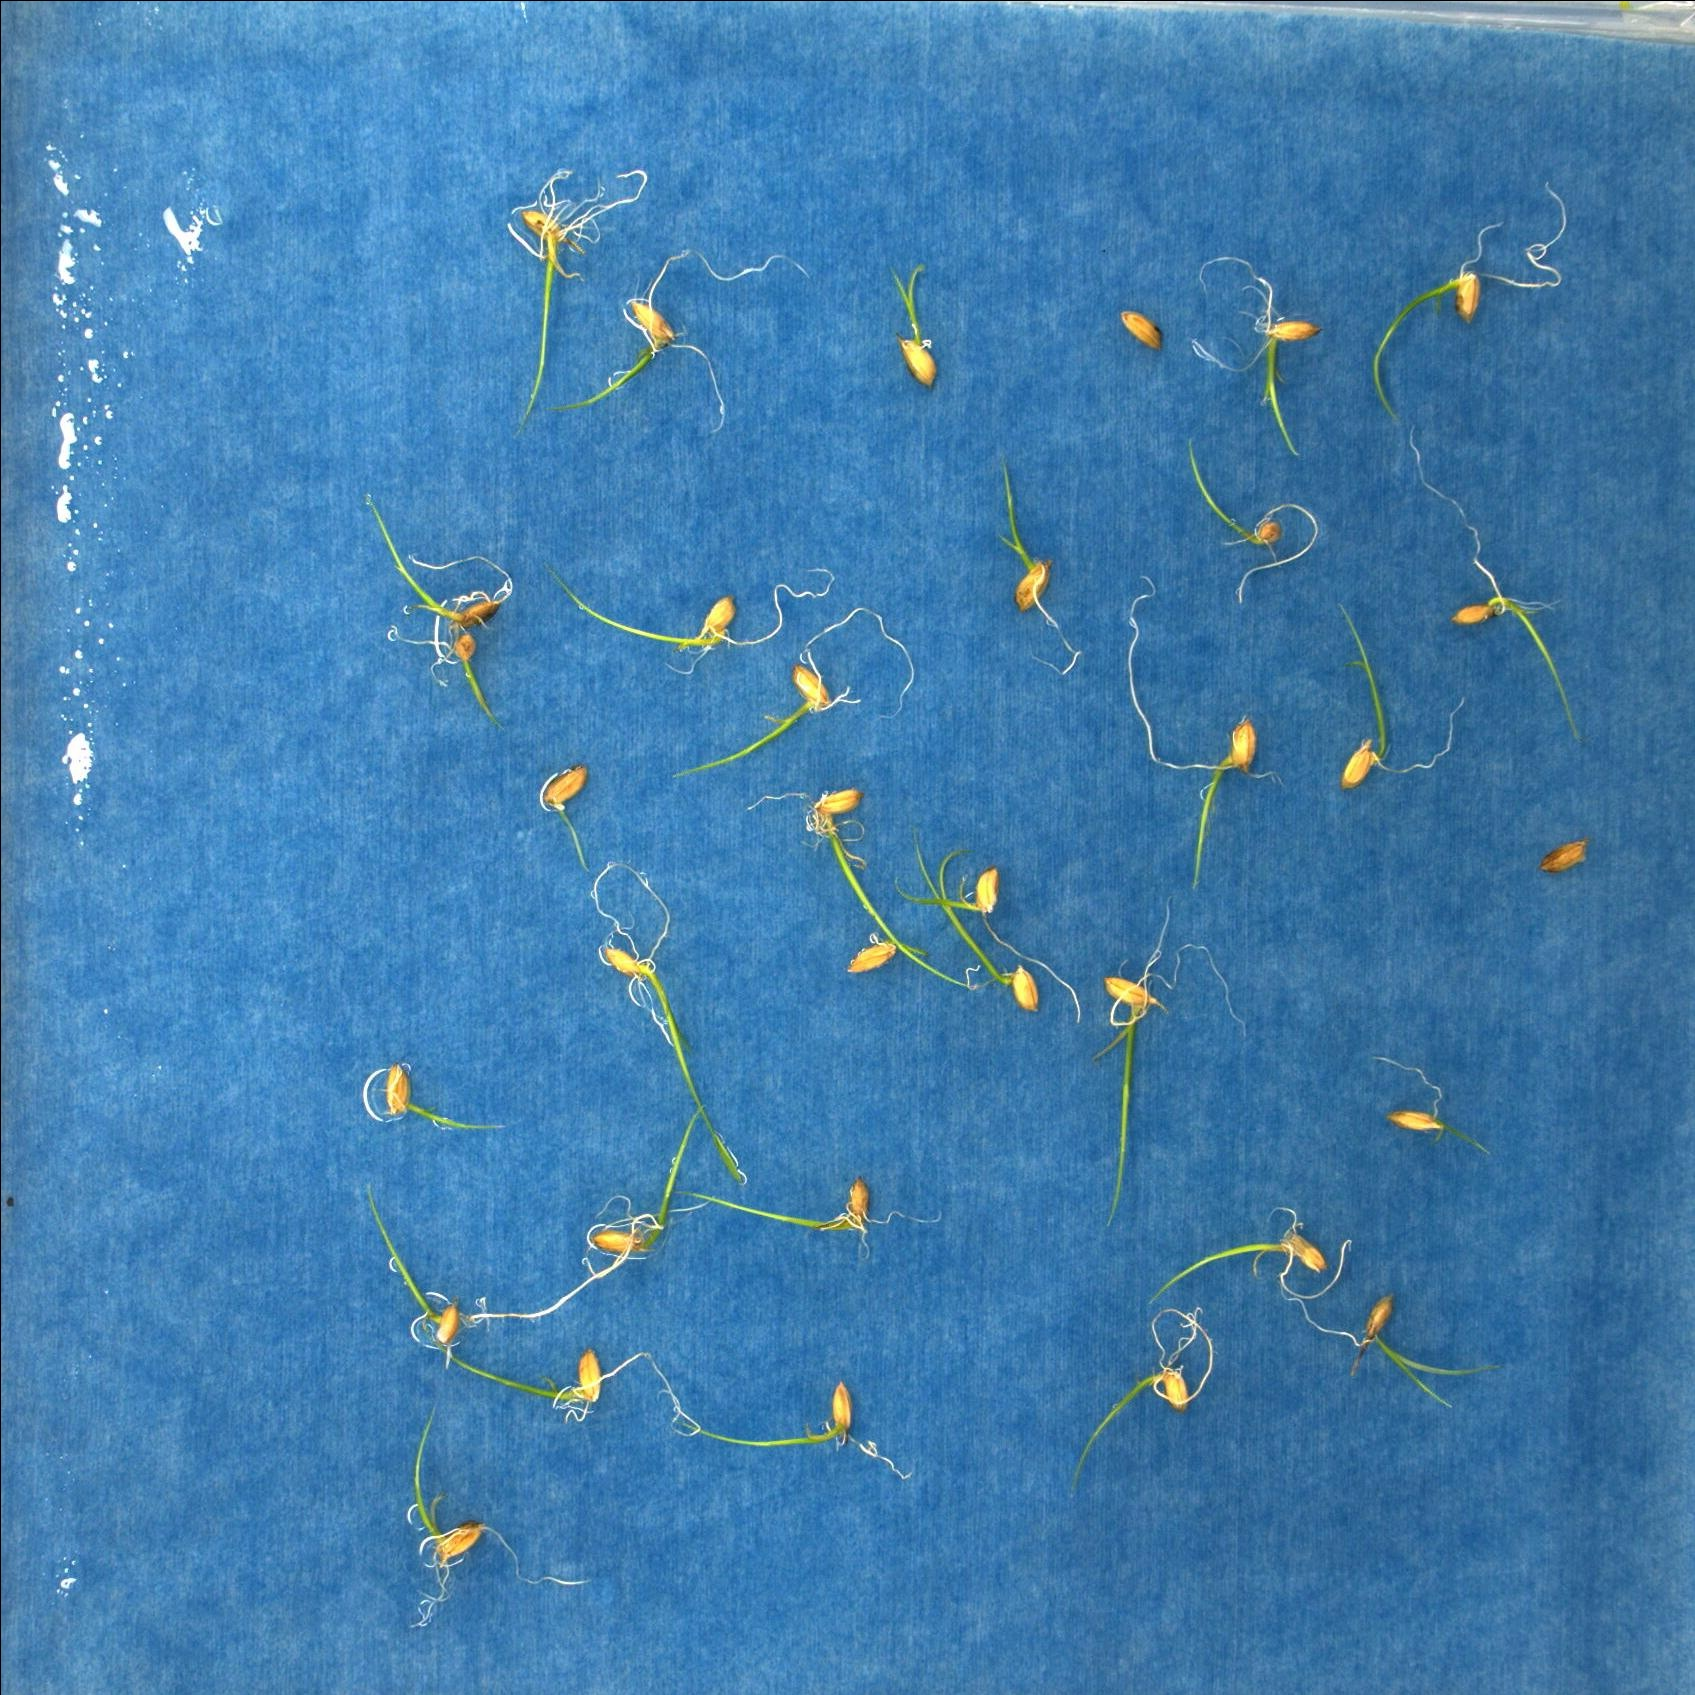not sprout: (536, 757, 587, 843), (1544, 823, 1600, 879), (1118, 307, 1166, 354)
sprout: (1111, 567, 1284, 910), (1055, 910, 1246, 1212), (740, 782, 983, 1010), (1355, 185, 1582, 428), (1406, 449, 1586, 754), (590, 860, 747, 1184), (382, 1395, 594, 1633), (675, 598, 927, 798), (543, 247, 804, 436), (498, 157, 644, 438), (520, 1114, 698, 1326), (893, 843, 1090, 1024), (549, 557, 835, 678), (1048, 1305, 1220, 1506), (357, 1184, 546, 1360), (1186, 237, 1324, 470), (1324, 590, 1467, 789), (983, 461, 1097, 691), (897, 832, 1042, 1014), (1187, 421, 1324, 612), (661, 1380, 917, 1479), (1139, 1203, 1366, 1315), (674, 1172, 945, 1254), (359, 490, 509, 636), (1350, 1291, 1503, 1409), (1380, 1035, 1503, 1159), (433, 1340, 660, 1400), (366, 1062, 512, 1152), (402, 632, 498, 730), (886, 261, 955, 394), (835, 930, 934, 981)
